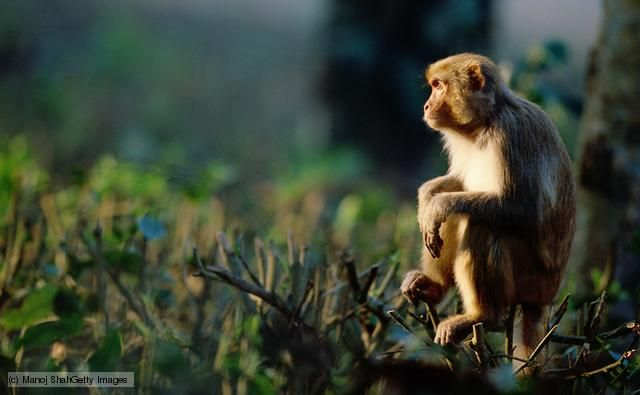monkey: (377, 44, 578, 357)
